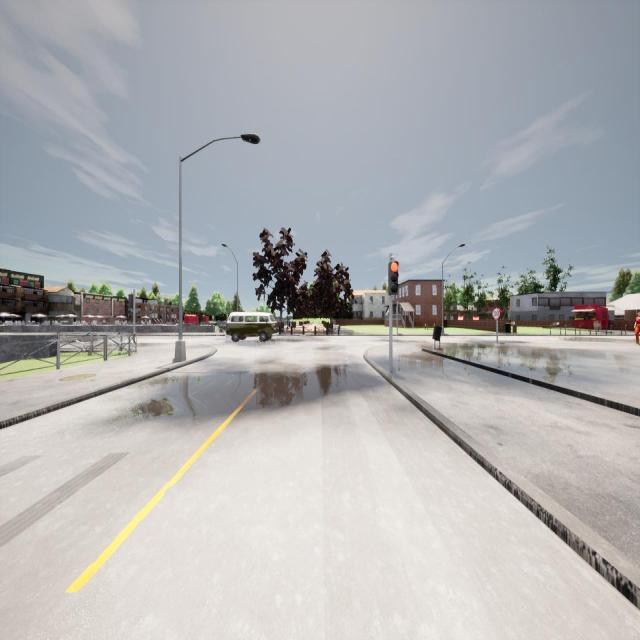Pedestrian: (634, 311, 640, 345)
Traffic_Signs: (492, 307, 502, 320)
Vehicle: (226, 312, 276, 342)
traffic_light: (389, 262, 399, 296), (128, 294, 134, 309)
